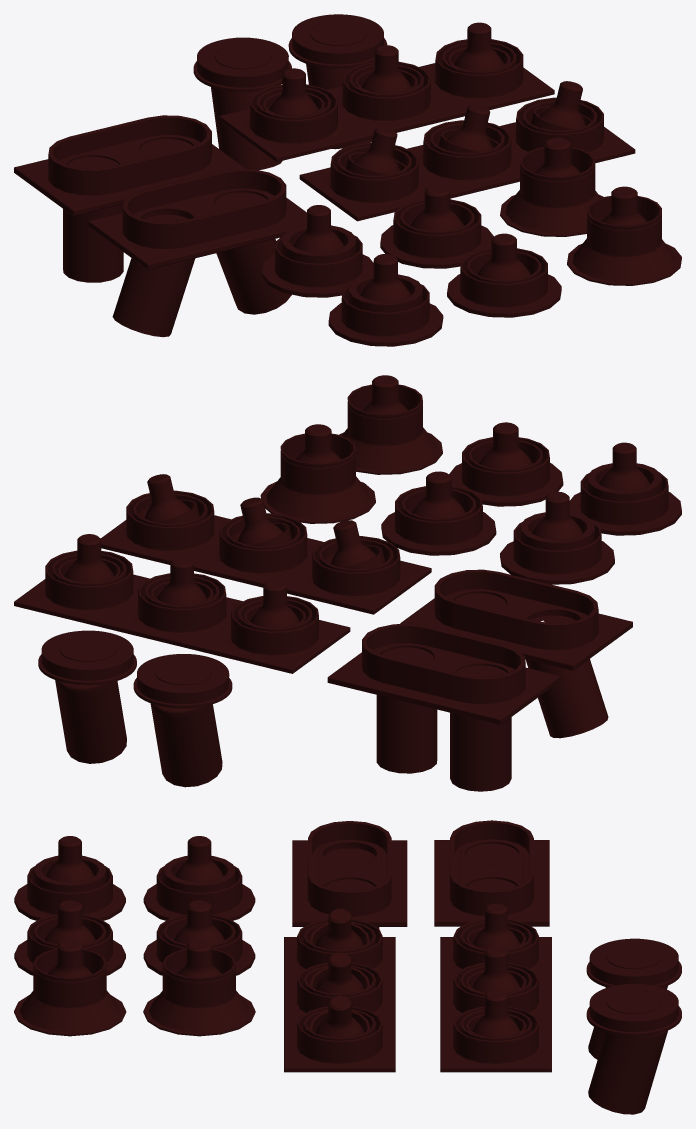
Rendered from Maytoni_Functional_lights__corona.obj.
3 renders of one model, top to bottom at view 1: azimuth 30°, elevation 25°; view 2: azimuth 150°, elevation 25°; view 3: azimuth 270°, elevation 25°, orthographic. The views are drawn at different scales.
Parts seen in each view (by area): view 1: Maytoni_Functional_lights_004, Maytoni_Functional_lights_006, Maytoni_Functional_lights_007, Maytoni_Functional_lights_024, Maytoni_Functional_lights_031, Maytoni_Functional_lights_009, Maytoni_Functional_lights_032, Maytoni_Functional_lights_033, Maytoni_Functional_lights_010, Maytoni_Functional_lights_011, Maytoni_Functional_lights_008, Maytoni_Functional_lights_017 (+17 smaller); view 2: Maytoni_Functional_lights_004, Maytoni_Functional_lights_006, Maytoni_Functional_lights_024, Maytoni_Functional_lights_007, Maytoni_Functional_lights_009, Maytoni_Functional_lights_031, Maytoni_Functional_lights_010, Maytoni_Functional_lights_011, Maytoni_Functional_lights_032, Maytoni_Functional_lights_033, Maytoni_Functional_lights_018, Maytoni_Functional_lights_020 (+17 smaller); view 3: Maytoni_Functional_lights_006, Maytoni_Functional_lights_004, Maytoni_Functional_lights_007, Maytoni_Functional_lights_024, Maytoni_Functional_lights_009, Maytoni_Functional_lights_031, Maytoni_Functional_lights_018, Maytoni_Functional_lights_010, Maytoni_Functional_lights_032, Maytoni_Functional_lights_019, Maytoni_Functional_lights_017, Maytoni_Functional_lights_033 (+13 smaller).
Part boxes in pixels (x1,y1,x2,y2): Maytoni_Functional_lights_004: (219,39,554,161); Maytoni_Functional_lights_006: (299,97,635,221); Maytoni_Functional_lights_007: (88,169,306,269); Maytoni_Functional_lights_024: (14,115,245,216); Maytoni_Functional_lights_031: (567,196,681,285); Maytoni_Functional_lights_009: (500,147,603,236); Maytoni_Functional_lights_032: (328,274,443,346); Maytoni_Functional_lights_033: (447,248,561,317); Maytoni_Functional_lights_010: (261,225,373,297); Maytoni_Functional_lights_011: (380,199,493,268); Maytoni_Functional_lights_008: (112,258,195,337); Maytoni_Functional_lights_017: (193,37,291,91); Maytoni_Functional_lights_004: (14,550,350,673); Maytoni_Functional_lights_006: (101,490,431,614); Maytoni_Functional_lights_024: (327,623,560,724); Maytoni_Functional_lights_007: (400,569,632,670); Maytoni_Functional_lights_009: (260,433,375,523); Maytoni_Functional_lights_031: (339,384,442,474); Maytoni_Functional_lights_010: (500,512,614,584); Maytoni_Functional_lights_011: (381,486,496,555); Maytoni_Functional_lights_032: (569,463,681,535); Maytoni_Functional_lights_033: (449,437,563,506); Maytoni_Functional_lights_018: (55,680,126,763); Maytoni_Functional_lights_020: (150,703,222,787); Maytoni_Functional_lights_006: (284,919,395,1072); Maytoni_Functional_lights_004: (440,919,551,1072); Maytoni_Functional_lights_007: (292,821,407,926); Maytoni_Functional_lights_024: (434,820,549,926); Maytoni_Functional_lights_009: (143,948,255,1036); Maytoni_Functional_lights_031: (14,948,126,1036); Maytoni_Functional_lights_018: (588,1030,667,1114); Maytoni_Functional_lights_010: (143,855,255,920); Maytoni_Functional_lights_032: (14,855,125,920); Maytoni_Functional_lights_019: (586,983,681,1036); Maytoni_Functional_lights_017: (586,938,681,987); Maytoni_Functional_lights_033: (14,914,125,975).
Size of the model in its own units: 446 by 147 by 551.
